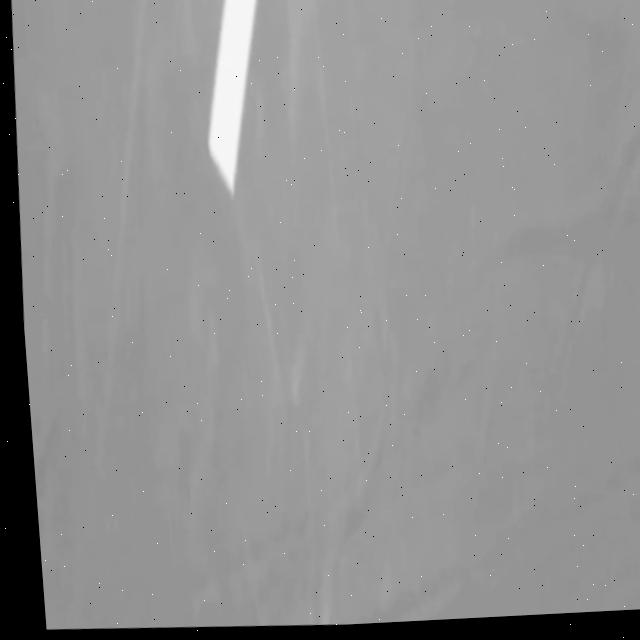center: (209, 0, 258, 194)
